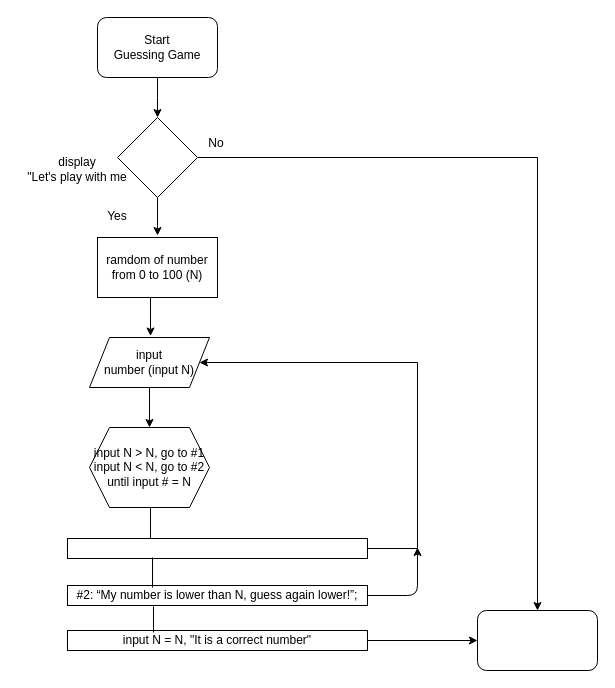
The diagram is 615 pixels wide and 688 high, and some of its shapes have lost their labels. The shapes that lost their labels are listed below. From the top down, each one's centre as x and y in pixels, then its label:
At (x=157, y=157): "Play".
At (x=217, y=548): "#1: “My number is higher than N, guess again higher!”;".
At (x=537, y=640): "End Guessing Game.".
